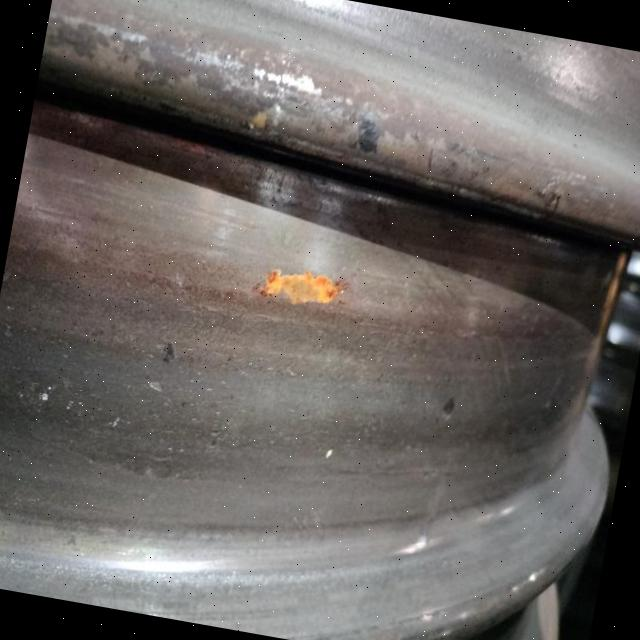Blue hole: (428, 382, 472, 434)
